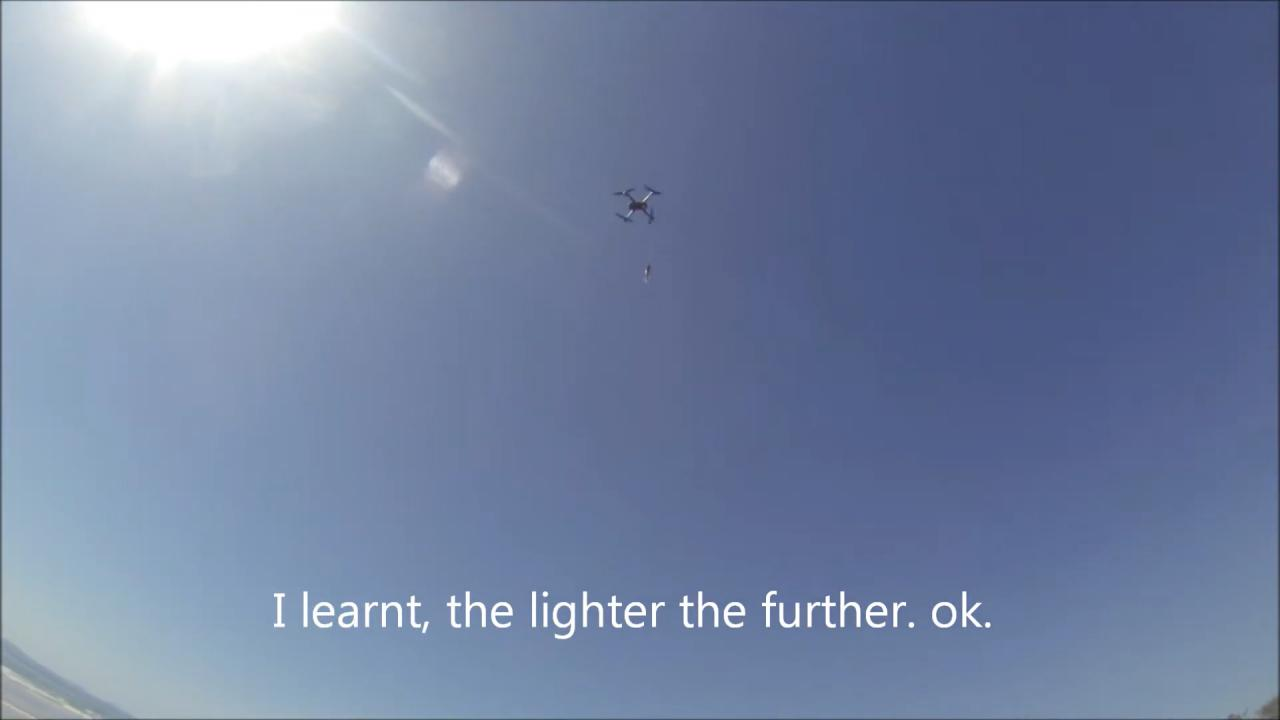Drone: (601, 176, 676, 234)
